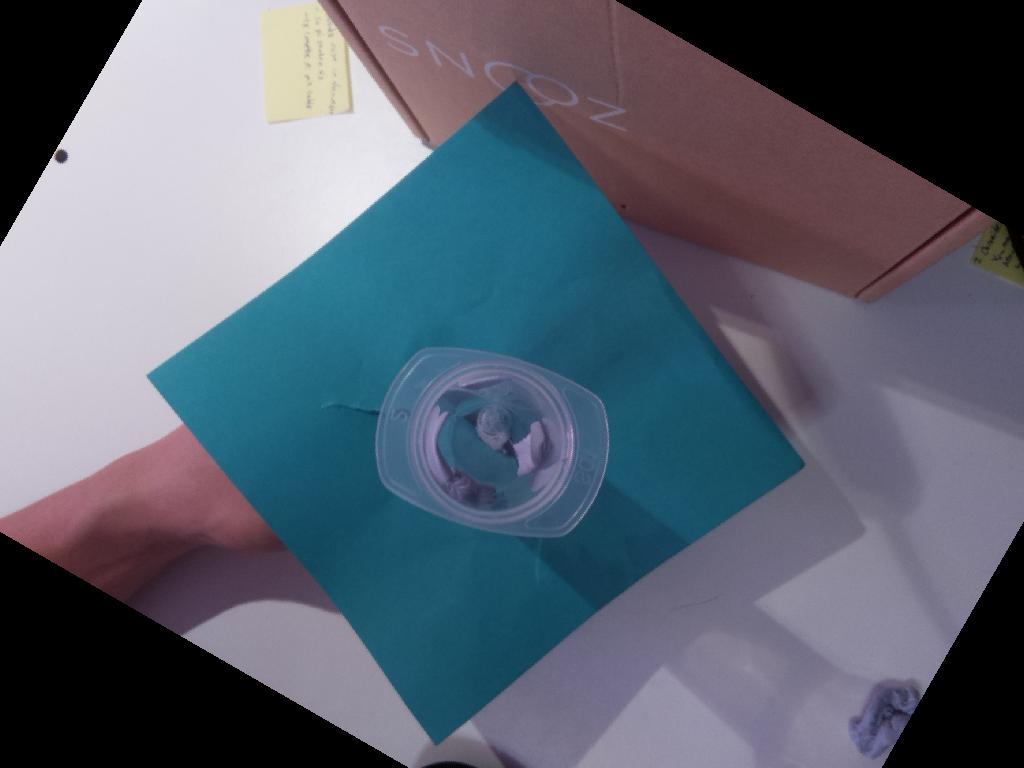dirty: (375, 347, 608, 536)
